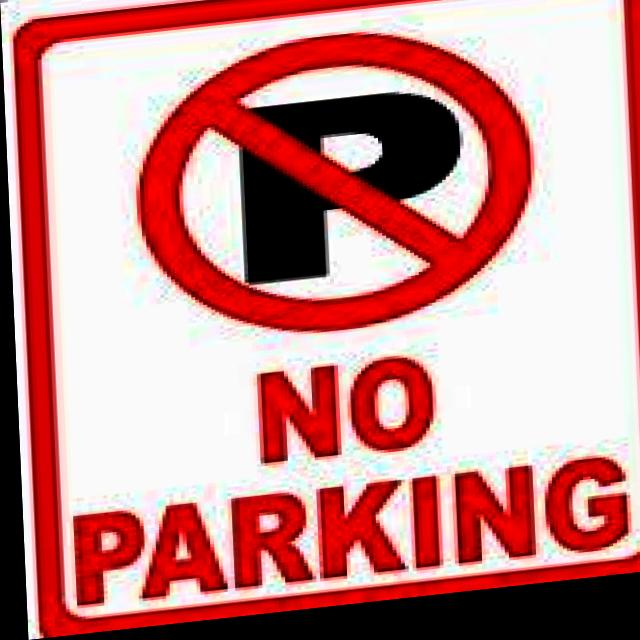NO_PARKING: (124, 23, 538, 357)
